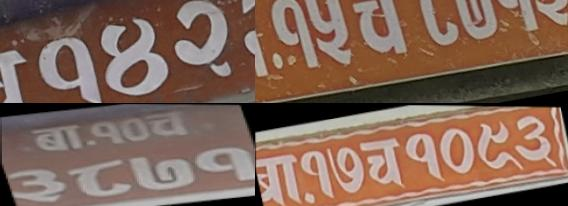0: (436, 124, 478, 176), (115, 115, 152, 142)
1: (163, 0, 238, 84), (264, 0, 323, 78), (188, 142, 255, 186), (401, 128, 447, 186), (485, 0, 541, 41), (297, 147, 335, 201), (89, 119, 125, 146)
3: (29, 29, 107, 103), (3, 165, 72, 206), (511, 111, 554, 163), (523, 0, 568, 32)
5: (93, 11, 172, 100), (301, 0, 361, 74)
7: (124, 148, 200, 193), (445, 0, 502, 46), (326, 140, 370, 196)
8: (403, 0, 463, 54), (64, 157, 134, 200)
9: (469, 116, 521, 174), (0, 45, 37, 103)
ba: (256, 151, 305, 206), (255, 0, 278, 93), (26, 122, 87, 155), (231, 0, 255, 67)
cha: (342, 0, 414, 66), (358, 134, 409, 193), (143, 108, 190, 138)
